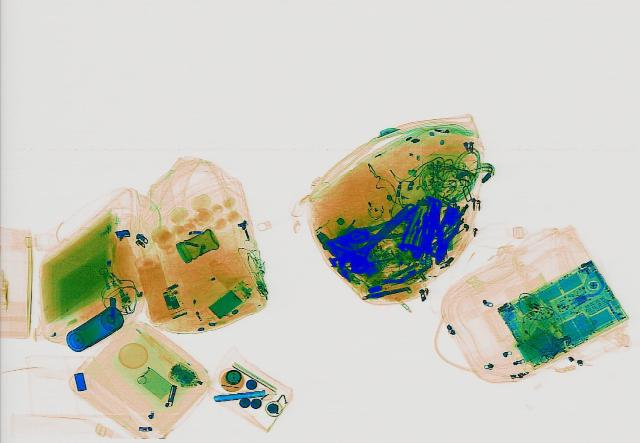Pliers: (426, 204, 464, 265)
Wrench: (334, 199, 426, 270)
